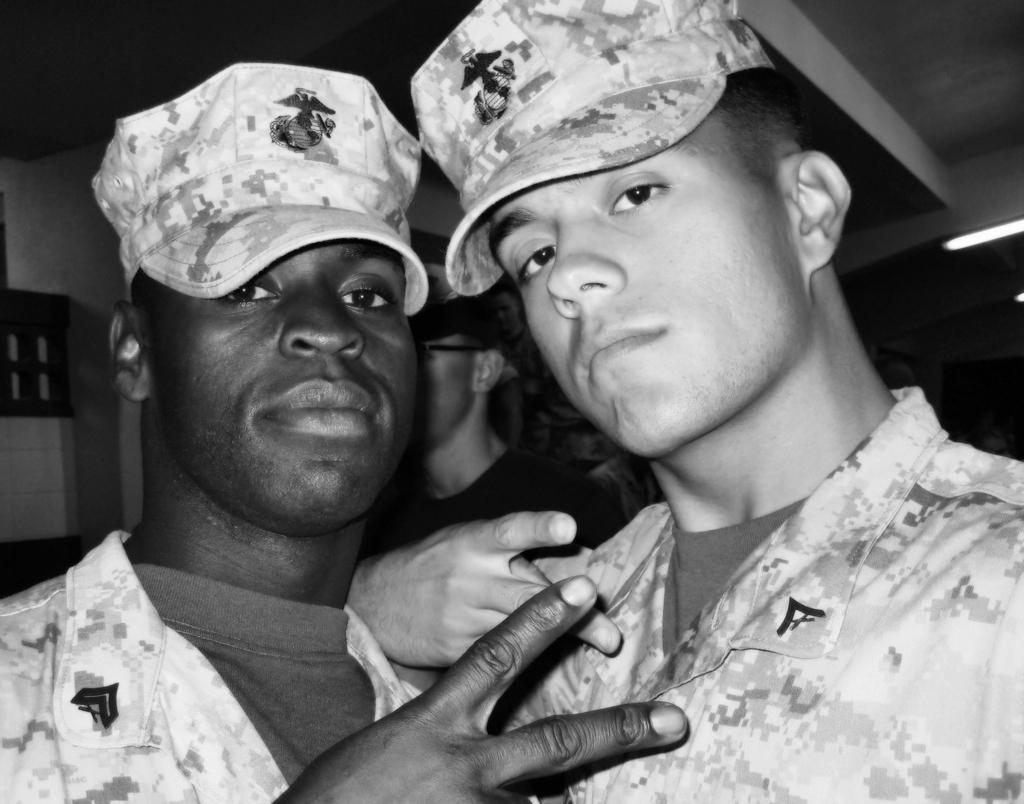Hat: (409, 0, 776, 299), (89, 62, 425, 320)
